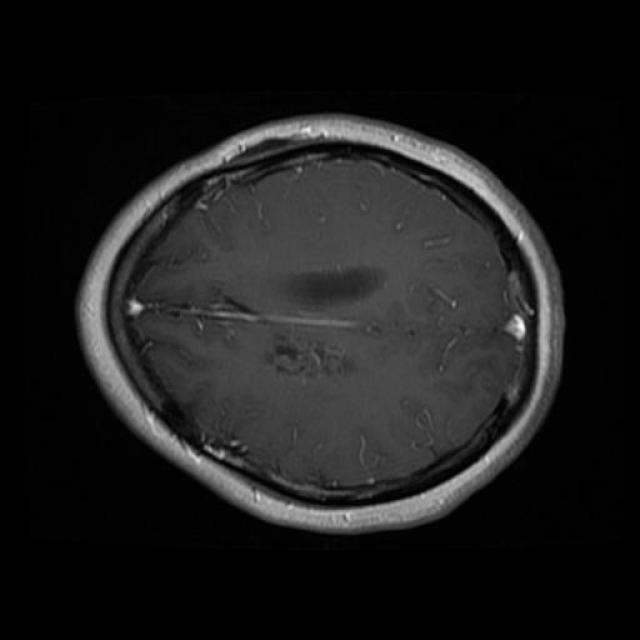Glioma: (267, 328, 341, 376)
